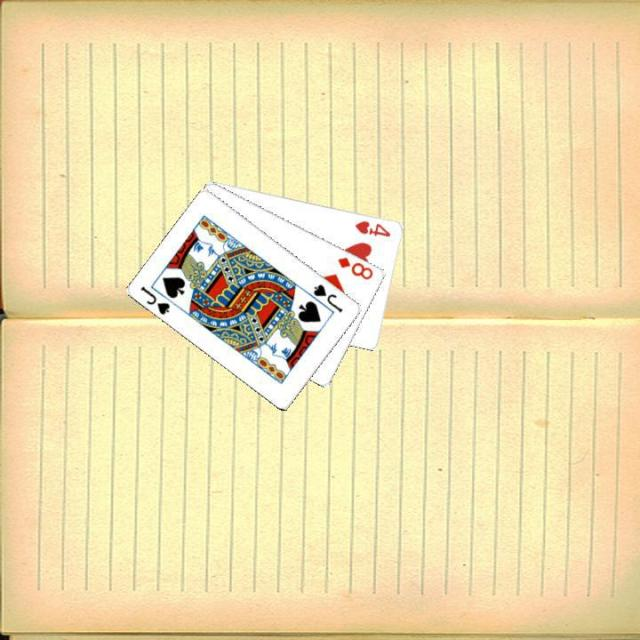4H: (351, 216, 393, 238)
8D: (333, 252, 375, 282)
JS: (309, 280, 345, 315), (137, 282, 172, 316)
